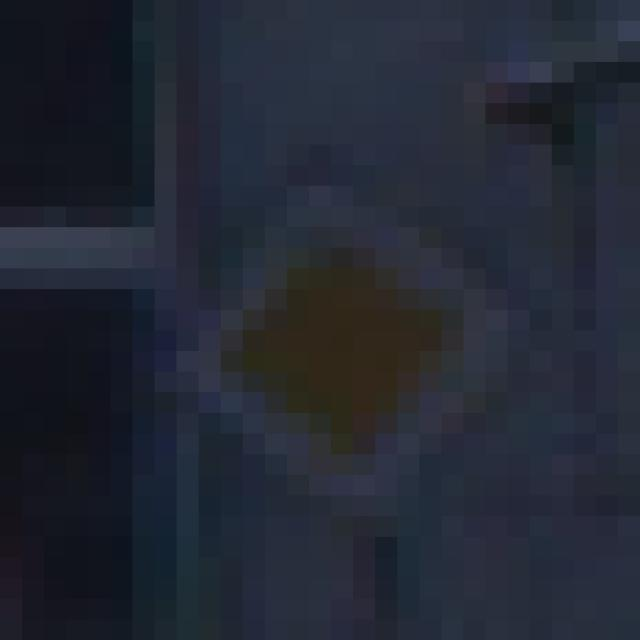Main Road: (134, 125, 531, 538)
